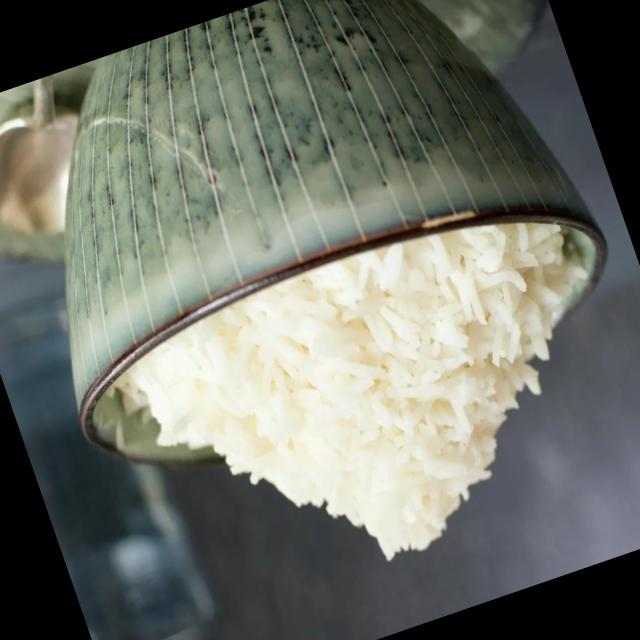rice: (104, 231, 574, 555)
